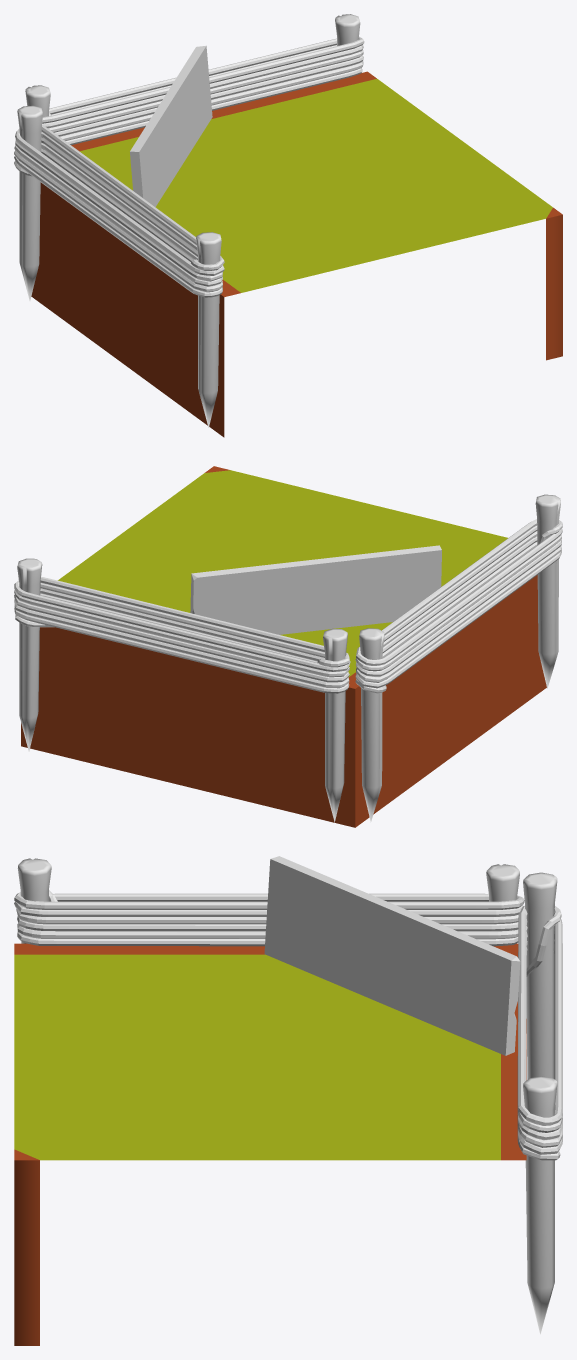
The model's file is Turn45_UpH01.fbx.
3 views of the same model, one above another, from view 1: azimuth 30°, elevation 25°; view 2: azimuth 150°, elevation 25°; view 3: azimuth 270°, elevation 25° (orthographic). The views are drawn at different scales.
Visible parts, largest first — view 1: Cube.000; view 2: Cube.000; view 3: Cube.000.
Boxes of the visible parts, box(x1,y1,x2,y2) form: Cube.000: box(14, 14, 562, 437); Cube.000: box(14, 466, 562, 827); Cube.000: box(14, 856, 562, 1345).
Bounding box in the file's own units: 214 × 120 × 214.
